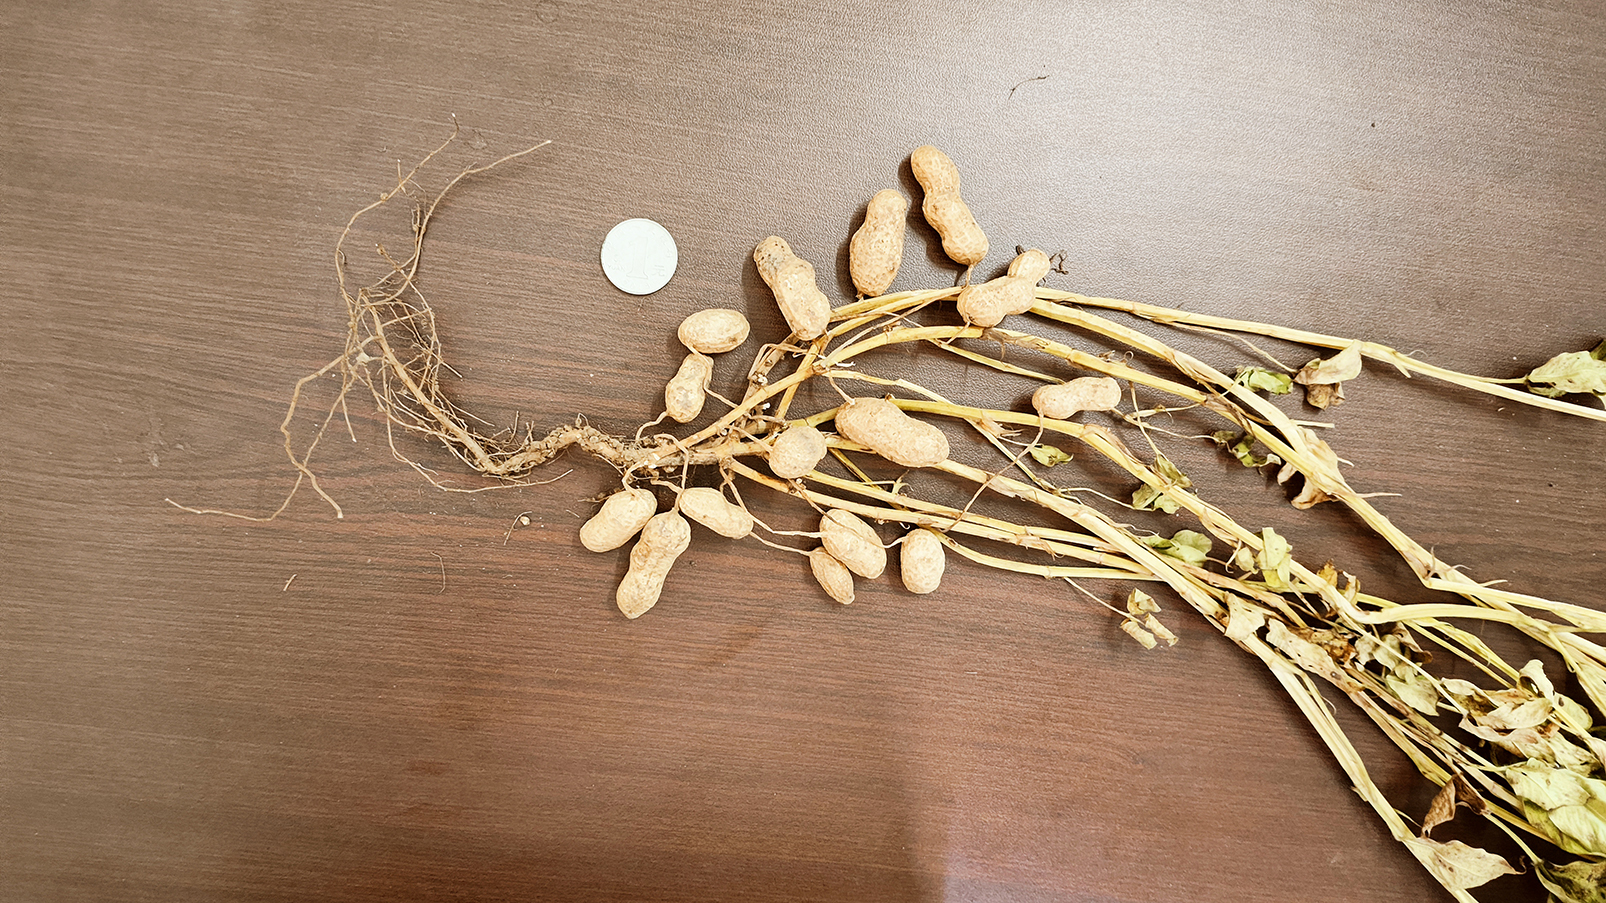h: (909, 144, 989, 264), (752, 234, 829, 341), (615, 510, 690, 620), (836, 396, 950, 466), (959, 247, 1052, 325), (849, 187, 908, 293), (579, 487, 657, 553), (818, 507, 887, 581), (1031, 374, 1122, 419), (679, 486, 754, 539), (676, 308, 751, 354), (664, 355, 714, 421), (768, 423, 828, 477), (902, 528, 946, 596), (809, 548, 856, 604)
